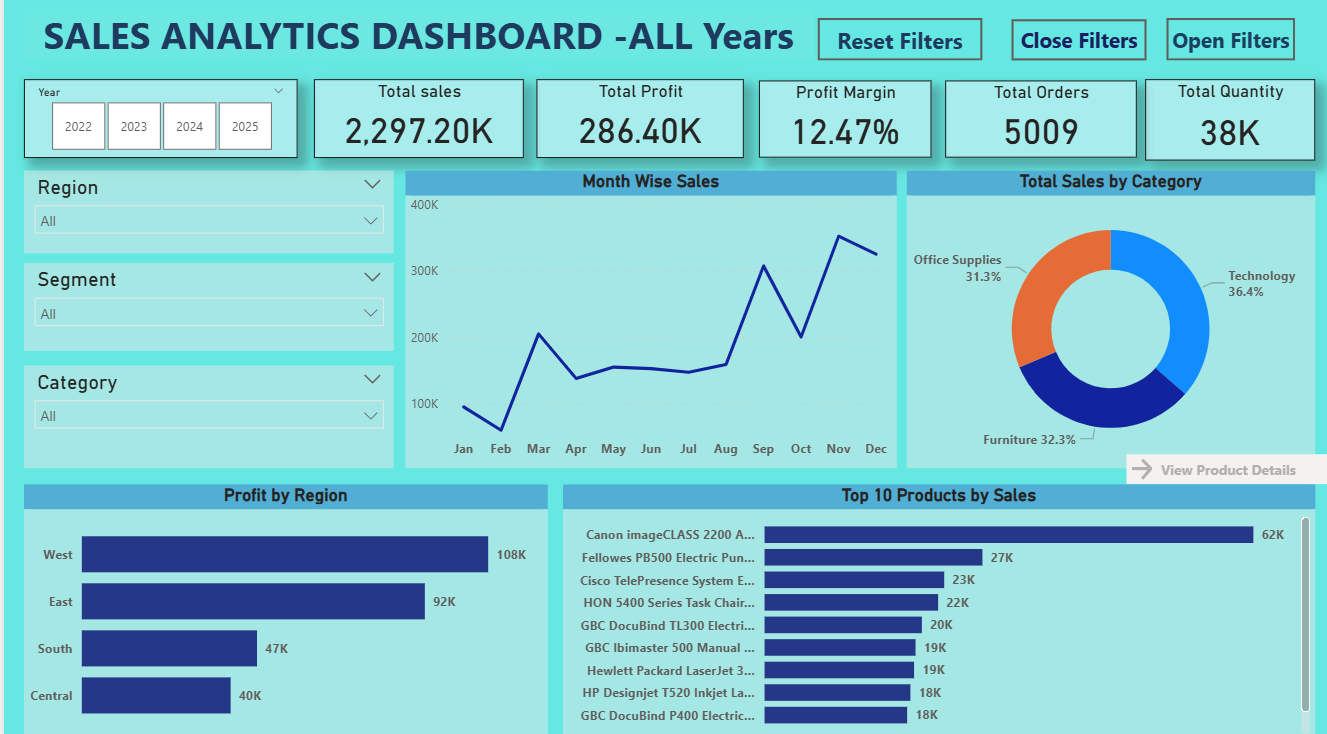

What the dashboard file says about the page in this screenshot:
{"tool":"powerbi","page":{"name":"Sales Overview","canvas":[1280,720],"ordinal":0},"visuals":[{"type":"slicer","fields":{"Values":["DateTable.Year"]},"box":[19.3,83.2,264.2,76],"z":0,"group":"g1"},{"type":"card","title":"Total sales","fields":{"Values":["Sales.Total Sales"]},"box":[299.2,83.2,202.7,76],"z":0},{"type":"card","title":"Total Profit","fields":{"Values":["Sales.Total Profit"]},"box":[513.9,83.2,200.3,76],"z":1000},{"type":"slicer","fields":{"Values":["Sales.Region"]},"box":[19.3,171.3,357.1,79.6],"z":1000,"group":"g1"},{"type":"card","title":"Profit Margin","fields":{"Values":["Sales.Profit Margin %"]},"box":[728.7,84.5,166.5,74.8],"z":2000},{"type":"slicer","fields":{"Values":["Sales.Segment"]},"box":[19.3,260.5,357.1,84.5],"z":2000,"group":"g1"},{"type":"card","title":"Total Orders","fields":{"Values":["Sales.Total Orders"]},"box":[908.6,84.4,184.6,74.6],"z":3000},{"type":"slicer","fields":{"Values":["Sales.Category"]},"box":[19.3,359.5,357.1,98.9],"z":3000,"group":"g1"},{"type":"card","title":"Total Quantity","fields":{"Values":["Sales.Total Quantity"]},"box":[1101.8,83.2,163.9,78.3],"z":4000},{"type":"lineChart","fields":{"Category":["DateTable.Month"],"Y":["Sales.Total Sales"]},"box":[387.3,171.3,474.1,287.1],"z":5000},{"type":"donutChart","fields":{"Category":["Sales.Category"],"Y":["Sales.Total Sales"]},"box":[871.1,171.3,394.5,287.1],"z":6000},{"type":"clusteredBarChart","title":"Profit by Region","fields":{"Category":["Sales.Region"],"Y":["Sales.Total Profit"]},"box":[19.3,474.1,505.5,246.1],"z":7000},{"type":"card","fields":{"Values":["DateTable.Selected Year Title"]},"box":[19.3,15.7,762.5,48.3],"z":8000},{"type":"clusteredBarChart","title":"Top 10 Products by Sales","fields":{"Category":["Sales.Product Name"],"Y":["Sales.Total Sales"]},"box":[539.3,474.1,726.3,246.1],"z":9000},{"type":"actionButton","title":"Reset Filters","box":[785.7,23.6,158.9,41],"z":10000},{"type":"group","id":"g1","title":"Filters Panel","box":[19.3,83.2,357.1,375.2],"z":11000},{"type":"actionButton","box":[971.9,24.8,130.3,39.7],"z":12000},{"type":"actionButton","box":[1122.1,23.6,124.1,41],"z":13000},{"type":"actionButton","box":[1068.9,456,196.6,29],"z":14000}]}

Visuals, with their boxes in screenshot pixels (x1, y1, x2, y2), scaled from the page's 1280x720 canvas onto the 1327x734 screenshot:
slicer - DateTable.Year: crop(20, 85, 294, 162)
"Total sales" card: crop(310, 85, 520, 162)
"Total Profit" card: crop(533, 85, 740, 162)
slicer - Sales.Region: crop(20, 175, 390, 256)
"Profit Margin" card: crop(755, 86, 928, 162)
slicer - Sales.Segment: crop(20, 266, 390, 352)
"Total Orders" card: crop(942, 86, 1133, 162)
slicer - Sales.Category: crop(20, 366, 390, 467)
"Total Quantity" card: crop(1142, 85, 1312, 165)
lineChart - DateTable.Month x Sales.Total Sales: crop(402, 175, 893, 467)
donutChart - Sales.Category x Sales.Total Sales: crop(903, 175, 1312, 467)
"Profit by Region" clusteredBarChart: crop(20, 483, 544, 733)
card - DateTable.Selected Year Title: crop(20, 16, 811, 65)
"Top 10 Products by Sales" clusteredBarChart: crop(559, 483, 1312, 733)
"Reset Filters" actionButton: crop(815, 24, 979, 66)
"Filters Panel" group: crop(20, 85, 390, 467)
actionButton: crop(1008, 25, 1143, 66)
actionButton: crop(1163, 24, 1292, 66)
actionButton: crop(1108, 465, 1312, 494)
